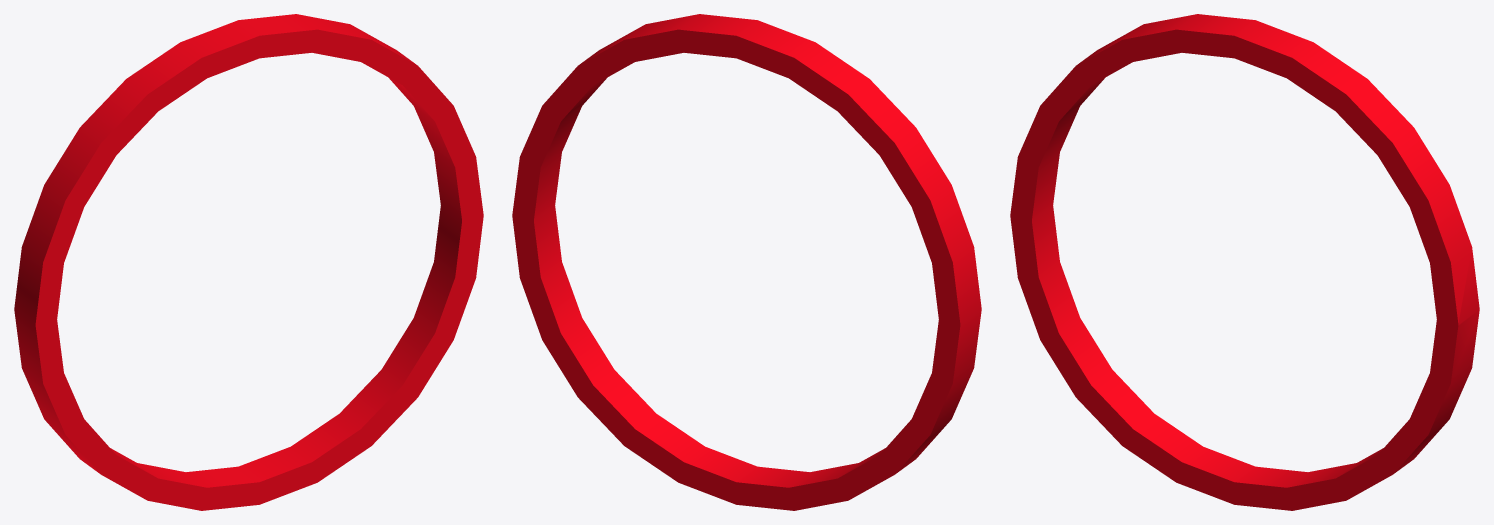
The model's file is redring.dae.
3 views of the same model, side by side, from view 1: azimuth 30°, elevation 25°; view 2: azimuth 150°, elevation 25°; view 3: azimuth 330°, elevation 25° (orthographic).
Parts seen in each view (by area): view 1: group_0 (×2); view 2: group_0 (×2); view 3: group_0 (×2).
Part boxes in pixels (bbox=[...]): group_0 (×2): bbox=[14, 14, 483, 510]; group_0 (×2): bbox=[512, 14, 981, 510]; group_0 (×2): bbox=[1010, 14, 1479, 510].
Size of the model in its own units: 601 by 49.51 by 601.
